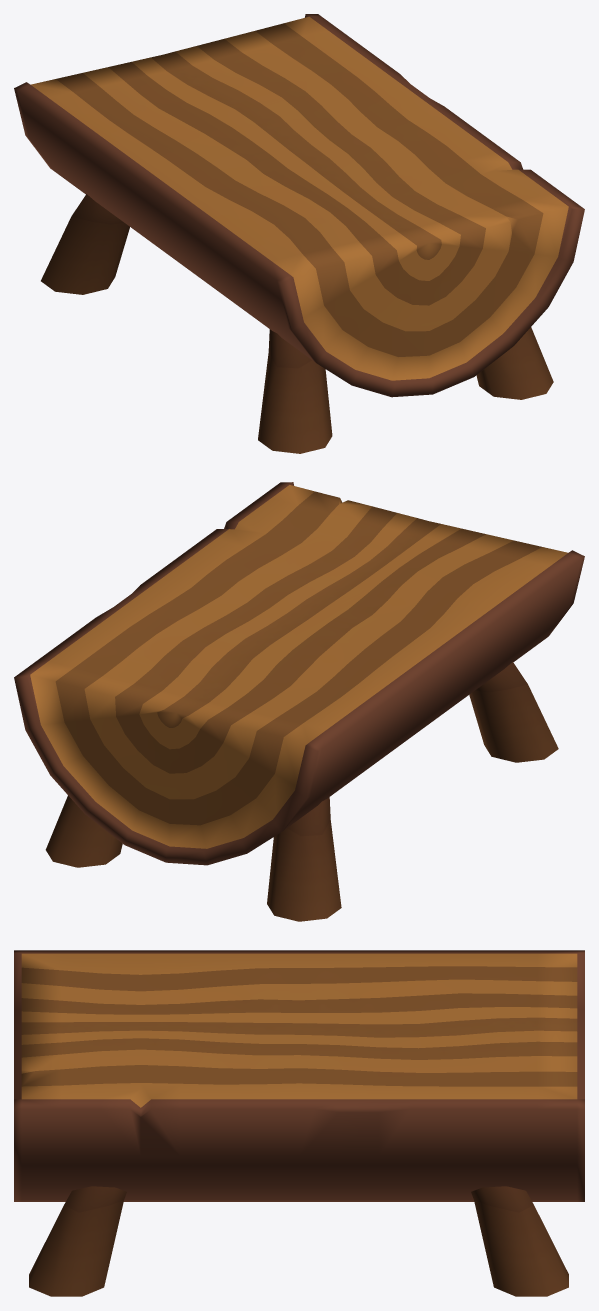
File: obj_banco.fbx
The picture shows the model from 3 angles, top to bottom: view 1: azimuth 30°, elevation 25°; view 2: azimuth 150°, elevation 25°; view 3: azimuth 270°, elevation 25°; orthographic projection. The views are drawn at different scales.
Parts seen in each view (by area): view 1: obj_RoundTable.001; view 2: obj_RoundTable.001; view 3: obj_RoundTable.001.
Part boxes in pixels (bbox=[...]): obj_RoundTable.001: bbox=[14, 14, 584, 453]; obj_RoundTable.001: bbox=[14, 482, 584, 921]; obj_RoundTable.001: bbox=[14, 950, 584, 1296].
Bounding box in the file's own units: 218 × 331 × 127.
